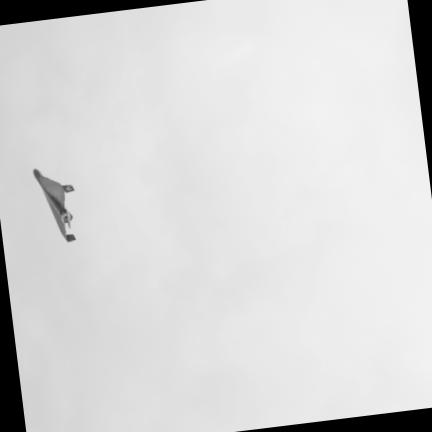Shahed: (33, 169, 75, 242)
